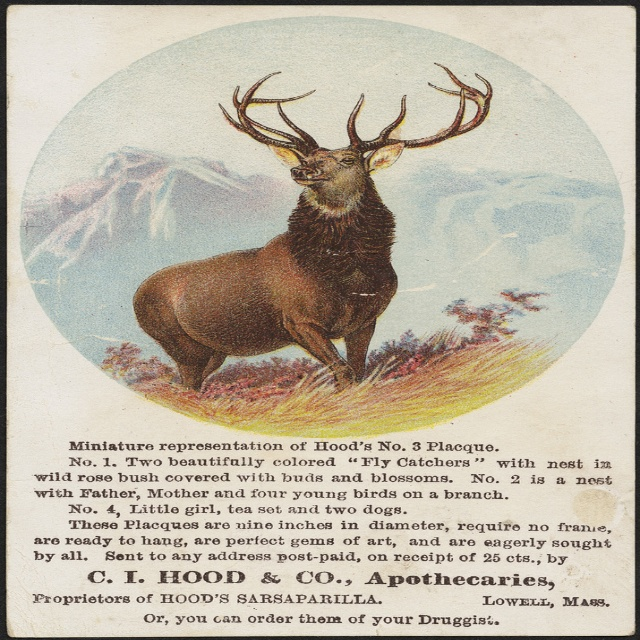Deer: (134, 61, 492, 392)
